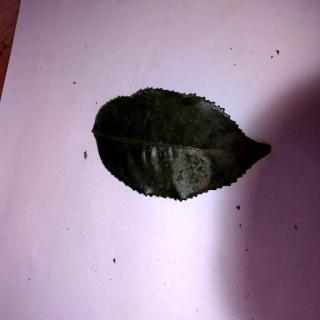Anthracnose: (95, 89, 275, 201)
